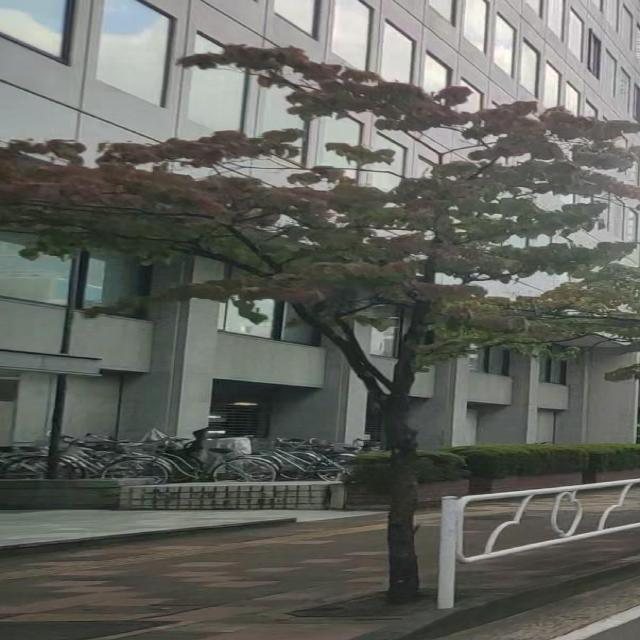dogwood: (0, 43, 640, 606)
